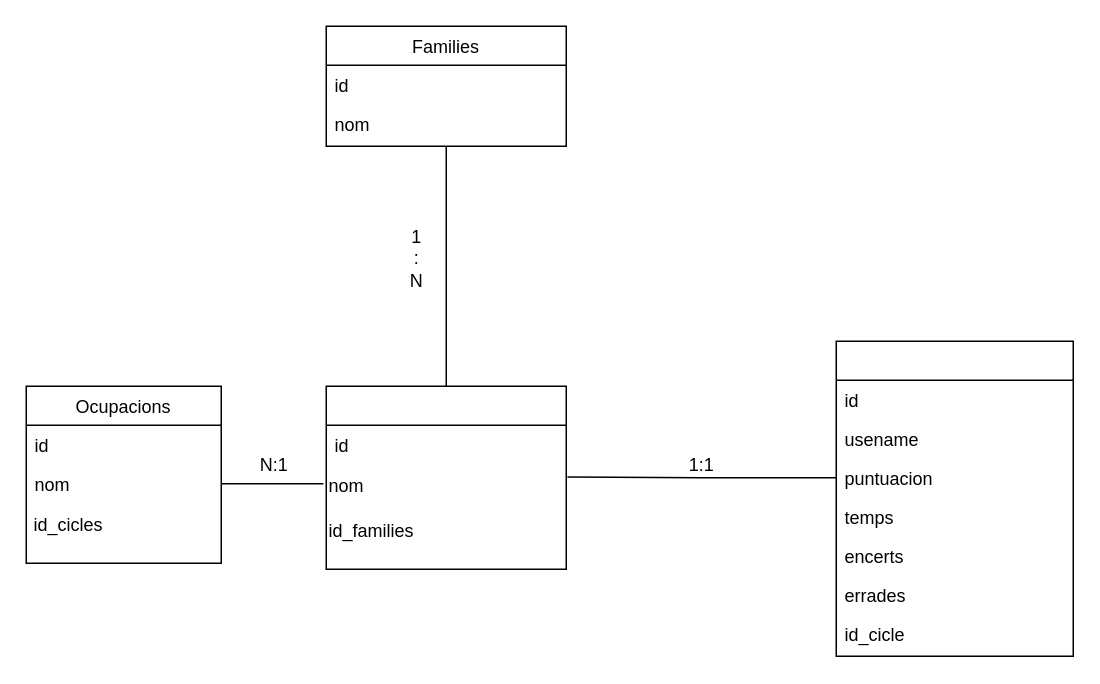
Image size: 1100x684. Some labels were removed from this diagram. Here are the shapes that lost their labels. From the top down, the box of each, then its label:
(325, 385, 566, 569): Cicles
(835, 340, 1073, 656): Ranking
